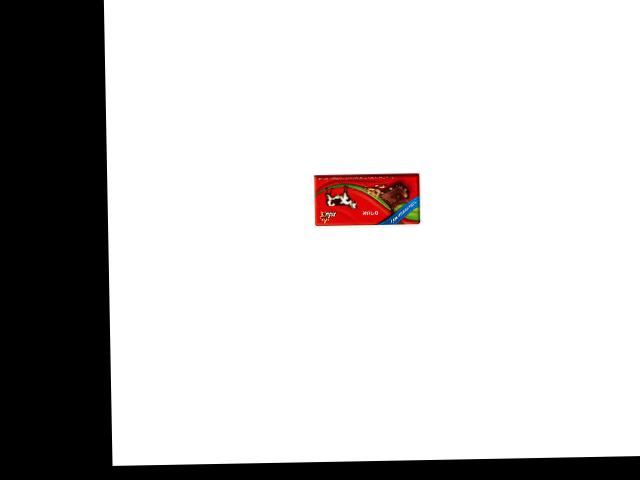chocolate: (309, 174, 419, 226)
